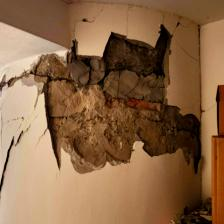High: (1, 21, 211, 206)
